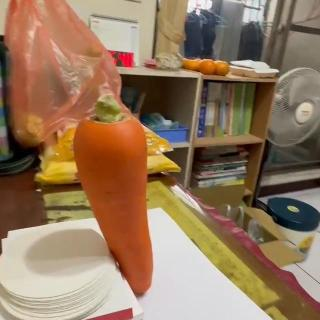carrot: (72, 93, 156, 295)
